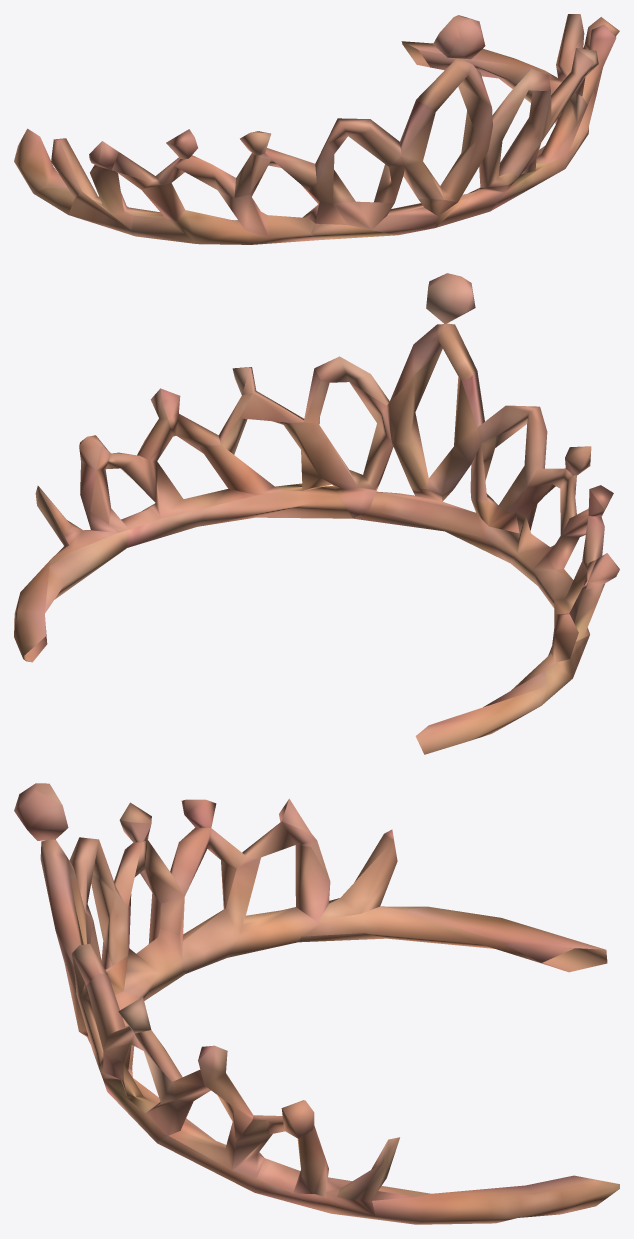
3 views of the same model, one above another, from view 1: azimuth 30°, elevation 25°; view 2: azimuth 150°, elevation 25°; view 3: azimuth 270°, elevation 25° (orthographic). The views are drawn at different scales.
Parts seen in each view (by area): view 1: Pink-Tiara-08; view 2: Pink-Tiara-08; view 3: Pink-Tiara-08.
Boxes of the visible parts, box(x1,y1,x2,y2) form: Pink-Tiara-08: box(14, 14, 619, 244); Pink-Tiara-08: box(14, 273, 619, 754); Pink-Tiara-08: box(14, 783, 619, 1224).
Bounding box in the file's own units: 0.2678 × 0.1244 × 0.2192.
Materials: 1 (1 with a texture image).
